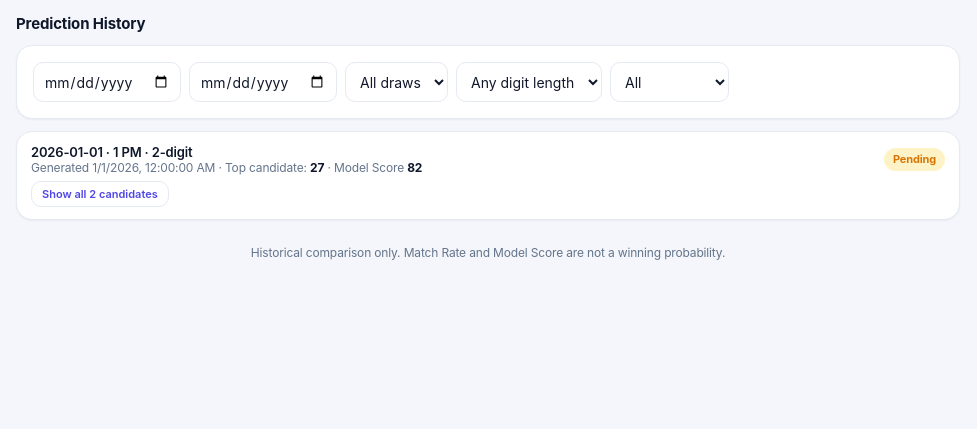
Test: PredictionHistory page › expands to show all candidates with historical/recent frequency and reason
What coordinates should you click on to do the following:
click the button "Show all 2 candidates"
I would click on:
 (100, 194)
Its box is x1=31 y1=181 x2=169 y2=207.
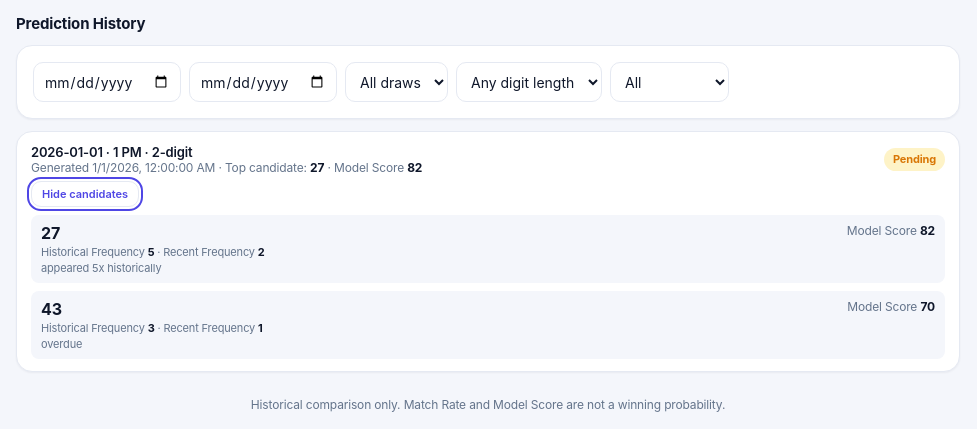
Now the text "43" is shown, box x1=41 y1=299 x2=62 y2=319
Now the text "Historical Frequency 5 · Recent Frequency 2" is shown 2 times, box x1=41 y1=245 x2=264 y2=259; x1=41 y1=321 x2=263 y2=335
Now the text "overdue" is shown, box x1=41 y1=337 x2=82 y2=351
